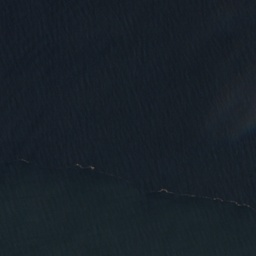Marine Debris: (150, 187, 256, 213), (74, 162, 96, 171), (20, 157, 29, 163)
